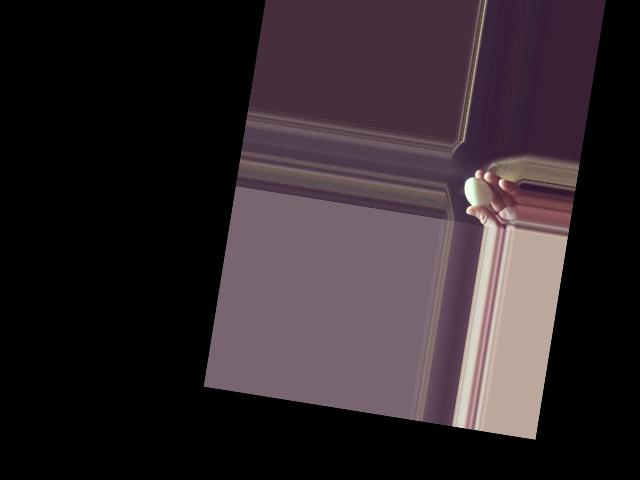egg: (462, 176, 495, 208)
